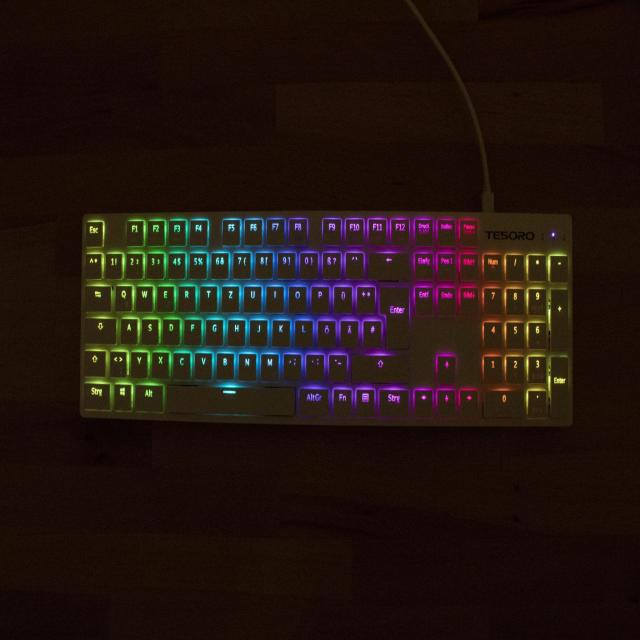0: (298, 249, 318, 277)
1: (104, 250, 122, 277)
2: (125, 250, 143, 277)
3: (146, 250, 164, 277)
4: (167, 251, 185, 278)
5: (188, 251, 207, 278)
6: (210, 250, 228, 278)
7: (232, 251, 250, 278)
8: (253, 250, 272, 278)
9: (275, 250, 295, 278)
a: (120, 315, 138, 342)
accent: (344, 249, 363, 277)
ae: (339, 318, 358, 346)
alt-left: (133, 382, 163, 410)
altgr-right: (297, 385, 328, 417)
b: (215, 351, 234, 379)
c: (172, 350, 190, 378)
caret: (83, 251, 101, 277)
comma: (282, 351, 301, 380)
d: (162, 316, 180, 343)
del: (367, 251, 408, 279)
e: (156, 283, 174, 310)
enter: (378, 284, 408, 349)
f: (183, 316, 201, 344)
g: (204, 317, 222, 344)
h: (226, 317, 245, 344)
hash: (361, 318, 381, 346)
i: (265, 284, 284, 312)
j: (248, 317, 267, 345)
k: (271, 317, 290, 346)
keyboard: (74, 207, 576, 430)
l: (293, 318, 312, 346)
less: (109, 348, 126, 375)
m: (260, 351, 279, 380)
minus: (327, 352, 346, 380)
n: (237, 351, 256, 379)
o: (287, 284, 306, 312)
oe: (316, 318, 335, 346)
p: (310, 284, 329, 312)
plus: (355, 283, 374, 312)
point: (304, 352, 324, 379)
q: (113, 282, 132, 310)
r: (177, 283, 196, 311)
s: (140, 315, 158, 342)
shift-left: (82, 348, 105, 375)
shift-lock: (82, 316, 116, 343)
shift-right: (350, 353, 406, 382)
space: (164, 383, 295, 416)
ss: (321, 250, 340, 277)
strg-left: (80, 380, 110, 409)
strg-right: (377, 387, 409, 416)
t: (199, 283, 217, 311)
tab: (83, 283, 110, 309)
u: (242, 283, 261, 312)
ue: (332, 283, 351, 312)
v: (193, 350, 212, 378)
w: (134, 282, 153, 309)
x: (151, 349, 169, 377)
y: (129, 349, 148, 376)
z: (220, 283, 239, 311)
